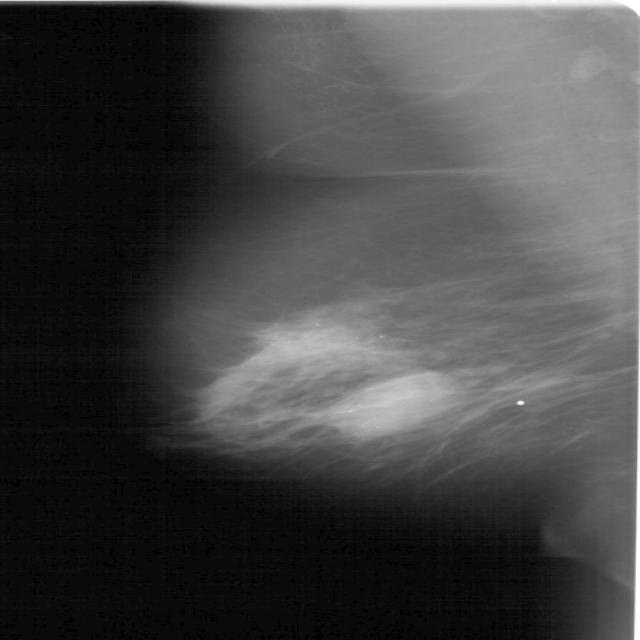tumour: (324, 372, 454, 434)
